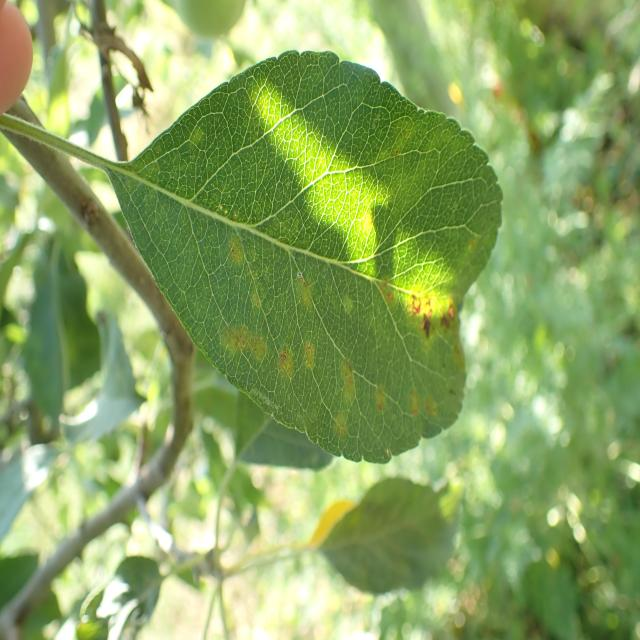scab: (183, 108, 474, 462)
